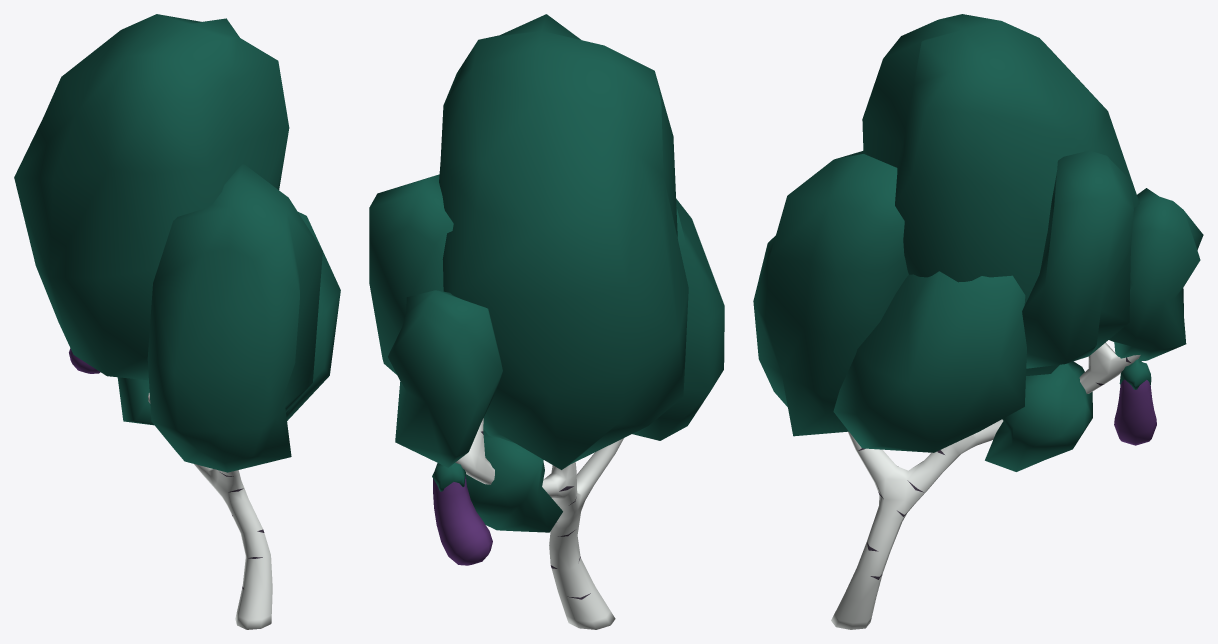
Rendered from Tree-Eggplant-no1.gltf.
3 views of the same model, side by side, from view 1: azimuth 30°, elevation 25°; view 2: azimuth 150°, elevation 25°; view 3: azimuth 270°, elevation 25° (orthographic). The views are drawn at different scales.
Parts seen in each view (by area): view 1: Tree-Eggplant-No1; view 2: Tree-Eggplant-No1; view 3: Tree-Eggplant-No1.
Part boxes in pixels (bbox=[...]): Tree-Eggplant-No1: bbox=[14, 14, 340, 629]; Tree-Eggplant-No1: bbox=[369, 14, 724, 629]; Tree-Eggplant-No1: bbox=[753, 14, 1203, 629].
Size of the model in its own units: 1.7 by 3.57 by 2.48.
Materials: 1 (1 with a texture image).
